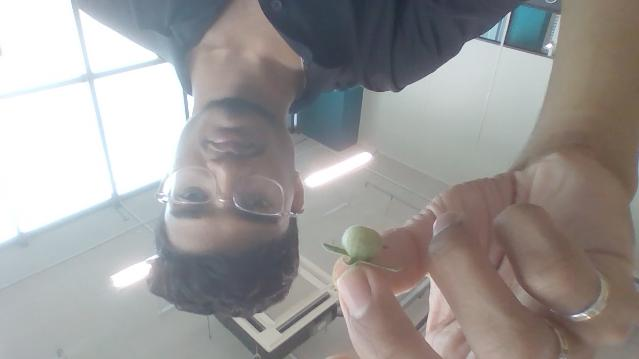Fruit Maturation: (341, 224, 383, 262)
